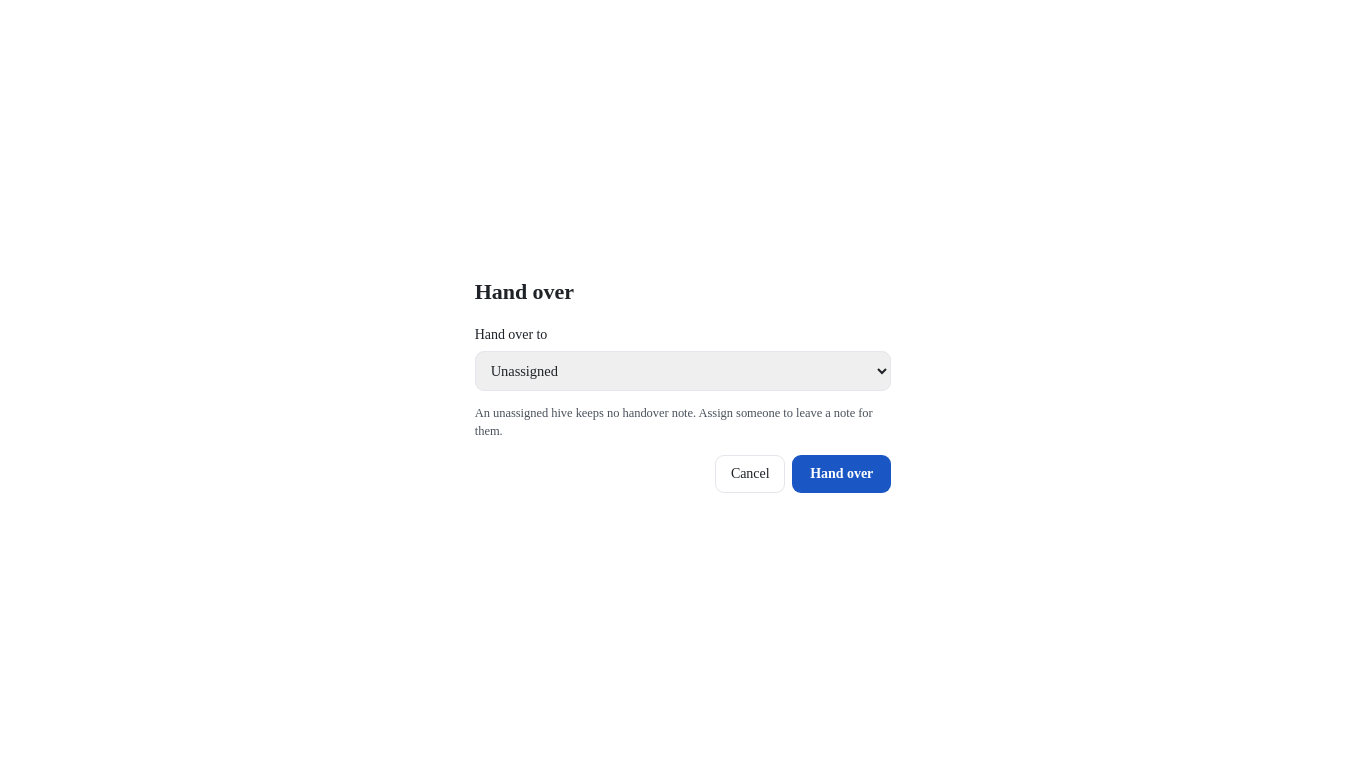
Scenario: HandOverDialog › refuses handing to the current assignee
The image size is (1366, 768).
Select "Maria Alvarez · Attorney" in the dropdown at (683, 371), box [475, 351, 891, 391]
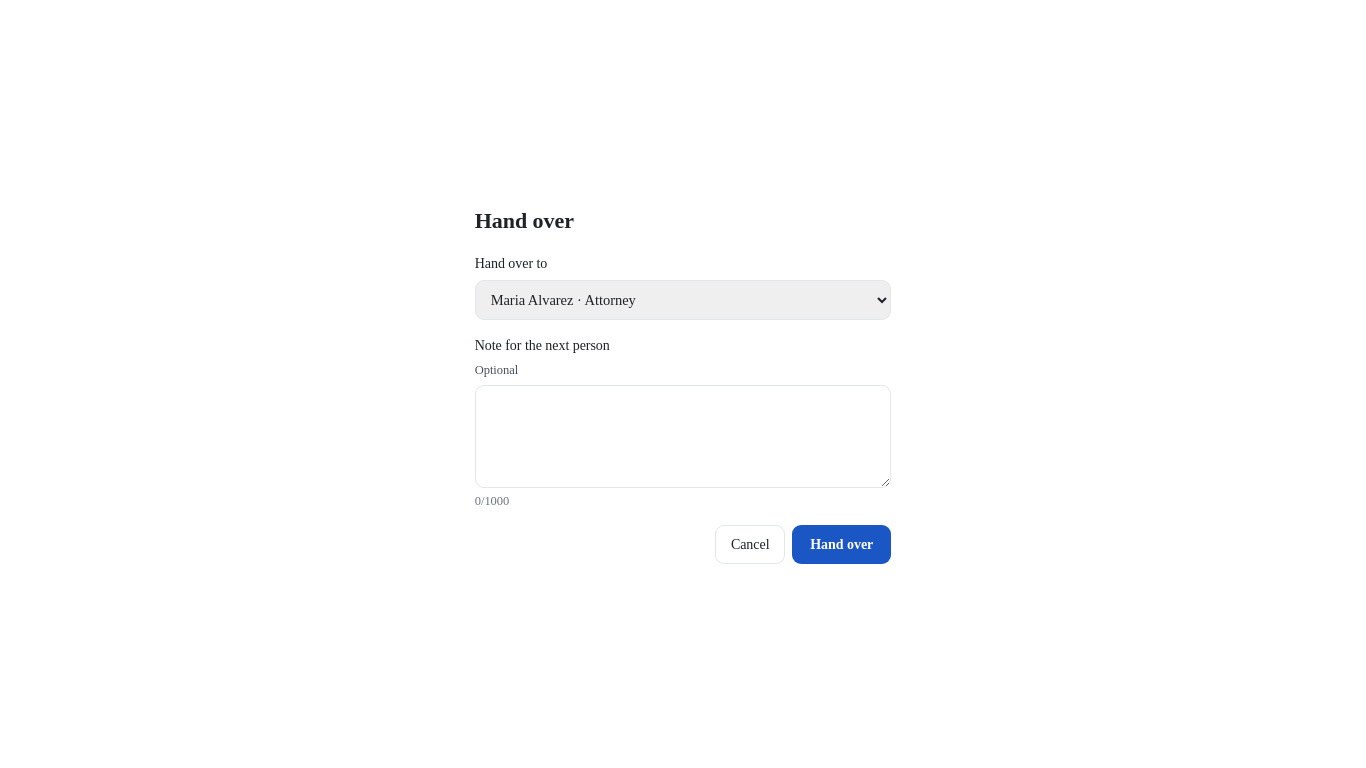
Click the button "Hand over" at (842, 544), box [792, 525, 891, 564]
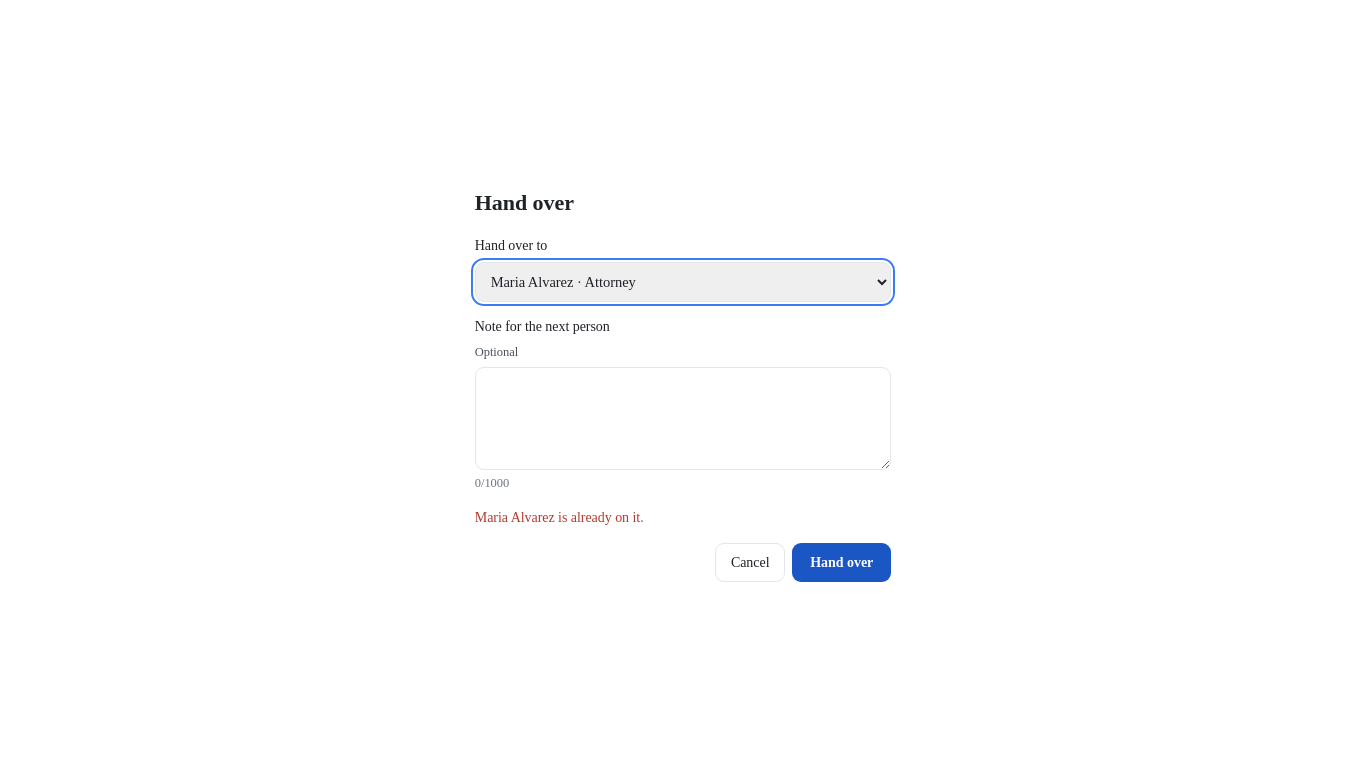
Now the message reads "Maria Alvarez is already on it.", box [475, 510, 644, 525]
